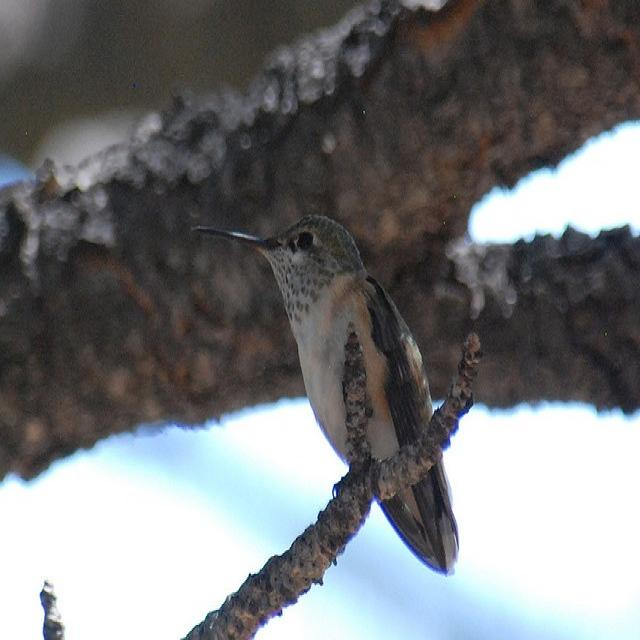bird: (186, 204, 481, 580)
